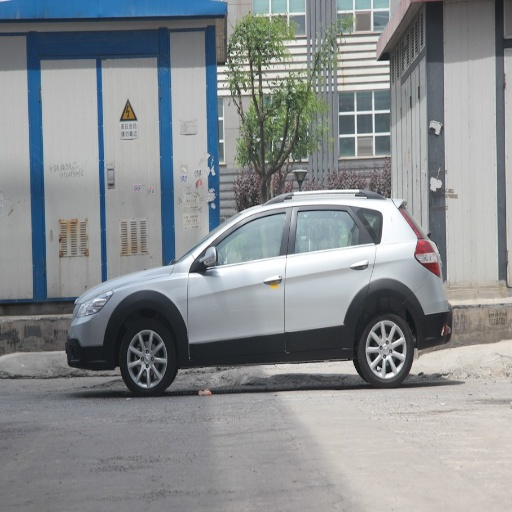back_left_door: (285, 204, 374, 350)
front_left_door: (187, 204, 291, 354)
